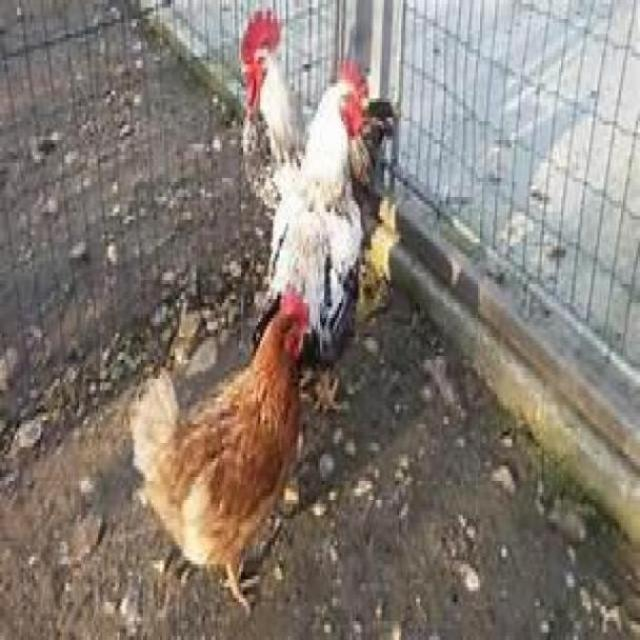Chicken: (128, 292, 314, 617), (254, 61, 371, 413), (241, 8, 401, 220)
